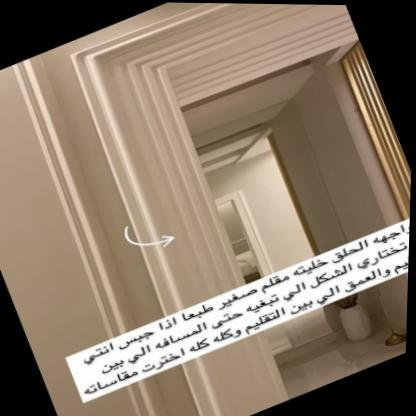Ceramic floor: (270, 305, 408, 398)
